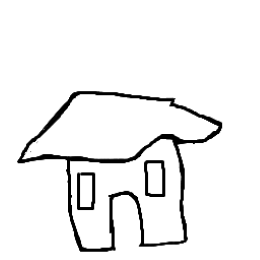bottom_placed_house: (2, 0, 260, 260)
door: (98, 189, 151, 252)
open_window: (141, 156, 167, 202), (74, 164, 98, 213)
roof: (13, 76, 232, 166)
wall: (59, 133, 197, 255)
